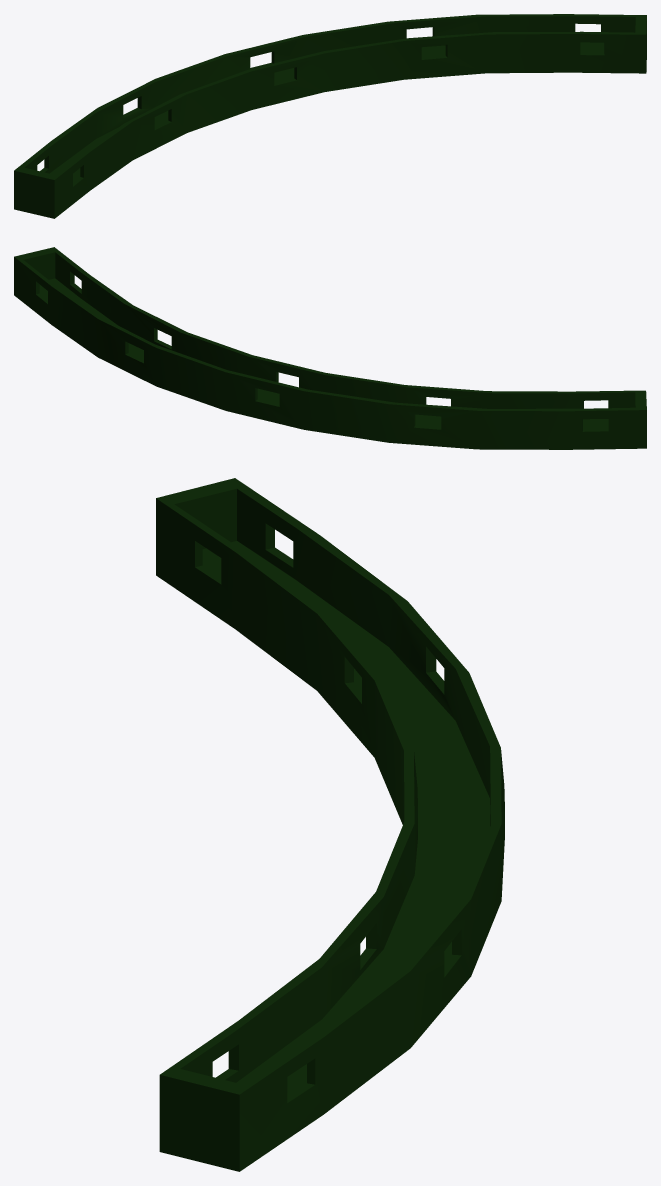
Rendered from wall-top-4.fbx.
3 renders of one model, top to bottom at view 1: azimuth 30°, elevation 25°; view 2: azimuth 150°, elevation 25°; view 3: azimuth 270°, elevation 25°, orthographic. The views are drawn at different scales.
Parts seen in each view (by area): view 1: wall-top-4; view 2: wall-top-4; view 3: wall-top-4.
Part boxes in pixels (<box>): wall-top-4: <box>14,14,646,218</box>; wall-top-4: <box>14,247,646,449</box>; wall-top-4: <box>156,478,504,1171</box>.
Bounding box in the file's own units: 28.39 × 1.66 × 6.79.
